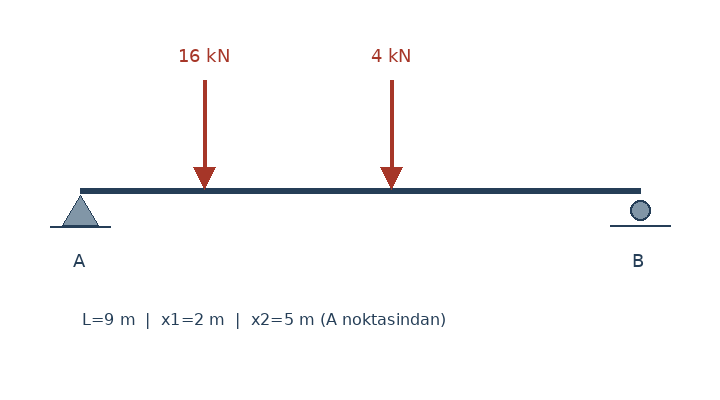pin_support: (61, 190, 99, 226)
point_load: (190, 76, 218, 190), (377, 76, 405, 190)
roller_support: (625, 196, 655, 227)
